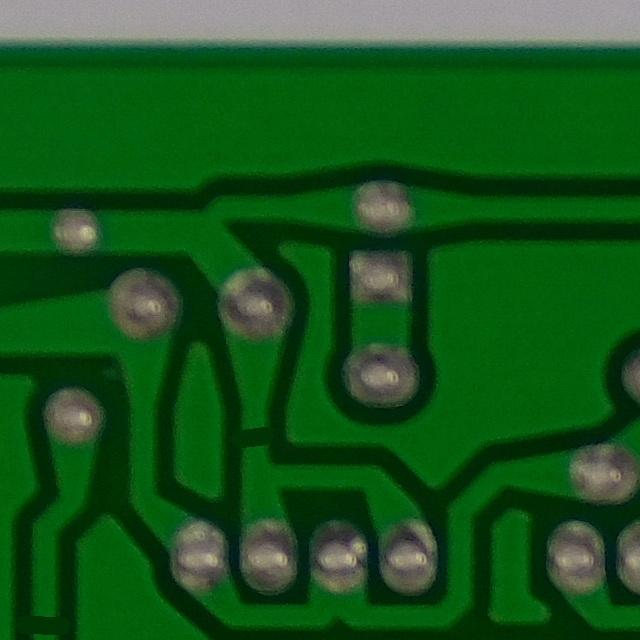open_circuit: (17, 598, 71, 640), (233, 415, 278, 458)
